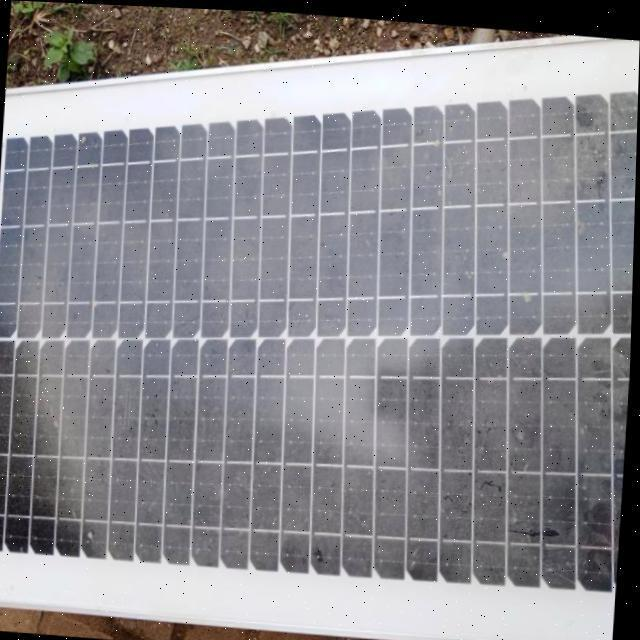Surface Contaminant: (0, 102, 637, 618)
